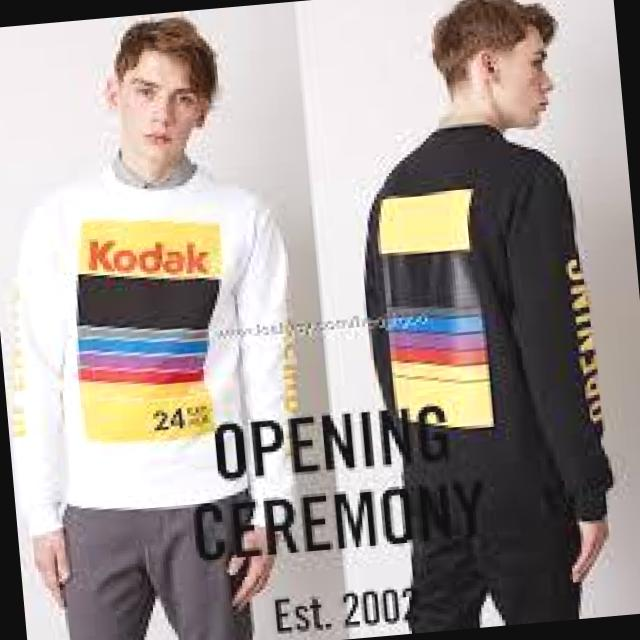sweater: (342, 109, 617, 549), (0, 156, 303, 545)
